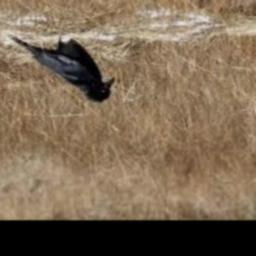Crow: (9, 34, 115, 104)
